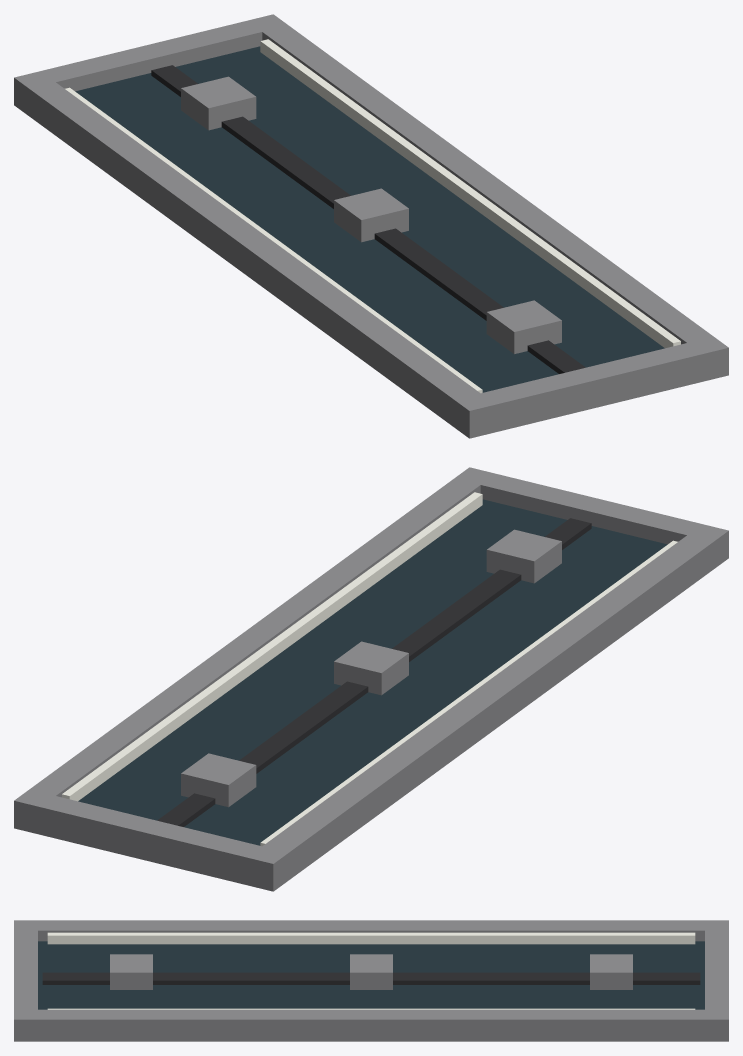
The model's file is vge_agrocell.obj.
The picture shows the model from 3 angles, top to bottom: view 1: azimuth 30°, elevation 25°; view 2: azimuth 150°, elevation 25°; view 3: azimuth 270°, elevation 25°; orthographic projection. The views are drawn at different scales.
Parts seen in each view (by area): view 1: vge_agrocell_0, vge_agrocell_3, vge_agrocell_4, vge_agrocell_1, vge_agrocell_10, vge_agrocell_5, vge_agrocell_2, vge_agrocell_6, vge_agrocell_8, vge_agrocell_7, vge_agrocell_9; view 2: vge_agrocell_0, vge_agrocell_3, vge_agrocell_4, vge_agrocell_2, vge_agrocell_10, vge_agrocell_5, vge_agrocell_1, vge_agrocell_8, vge_agrocell_6, vge_agrocell_7, vge_agrocell_9; view 3: vge_agrocell_0, vge_agrocell_4, vge_agrocell_3, vge_agrocell_9, vge_agrocell_5, vge_agrocell_1, vge_agrocell_2, vge_agrocell_6, vge_agrocell_7, vge_agrocell_8, vge_agrocell_10.
Boxes of the visible parts, x1,y1,x2,y2 form: vge_agrocell_0: [75, 46, 664, 392]; vge_agrocell_3: [29, 82, 480, 426]; vge_agrocell_4: [262, 25, 713, 344]; vge_agrocell_1: [454, 336, 728, 438]; vge_agrocell_10: [260, 39, 680, 348]; vge_agrocell_5: [151, 65, 585, 373]; vge_agrocell_2: [14, 14, 288, 115]; vge_agrocell_6: [486, 300, 561, 354]; vge_agrocell_8: [181, 76, 256, 130]; vge_agrocell_7: [334, 188, 408, 242]; vge_agrocell_9: [65, 87, 482, 393]; vge_agrocell_0: [78, 499, 667, 845]; vge_agrocell_3: [262, 535, 713, 879]; vge_agrocell_4: [29, 478, 480, 797]; vge_agrocell_2: [14, 789, 288, 891]; vge_agrocell_10: [62, 492, 482, 801]; vge_agrocell_5: [157, 518, 591, 826]; vge_agrocell_1: [454, 467, 728, 568]; vge_agrocell_8: [181, 753, 256, 807]; vge_agrocell_6: [486, 529, 561, 583]; vge_agrocell_7: [334, 641, 408, 695]; vge_agrocell_9: [260, 540, 677, 846]; vge_agrocell_0: [38, 941, 704, 1009]; vge_agrocell_4: [38, 1009, 704, 1041]; vge_agrocell_3: [38, 920, 704, 941]; vge_agrocell_9: [47, 932, 695, 944]; vge_agrocell_5: [42, 972, 700, 984]; vge_agrocell_1: [14, 920, 37, 1041]; vge_agrocell_2: [705, 920, 728, 1041]; vge_agrocell_6: [110, 954, 152, 989]; vge_agrocell_7: [350, 954, 392, 989]; vge_agrocell_8: [590, 954, 632, 989]; vge_agrocell_10: [47, 1008, 695, 1009].
Size of the model in its own units: 0.98 by 0.13 by 2.98.
